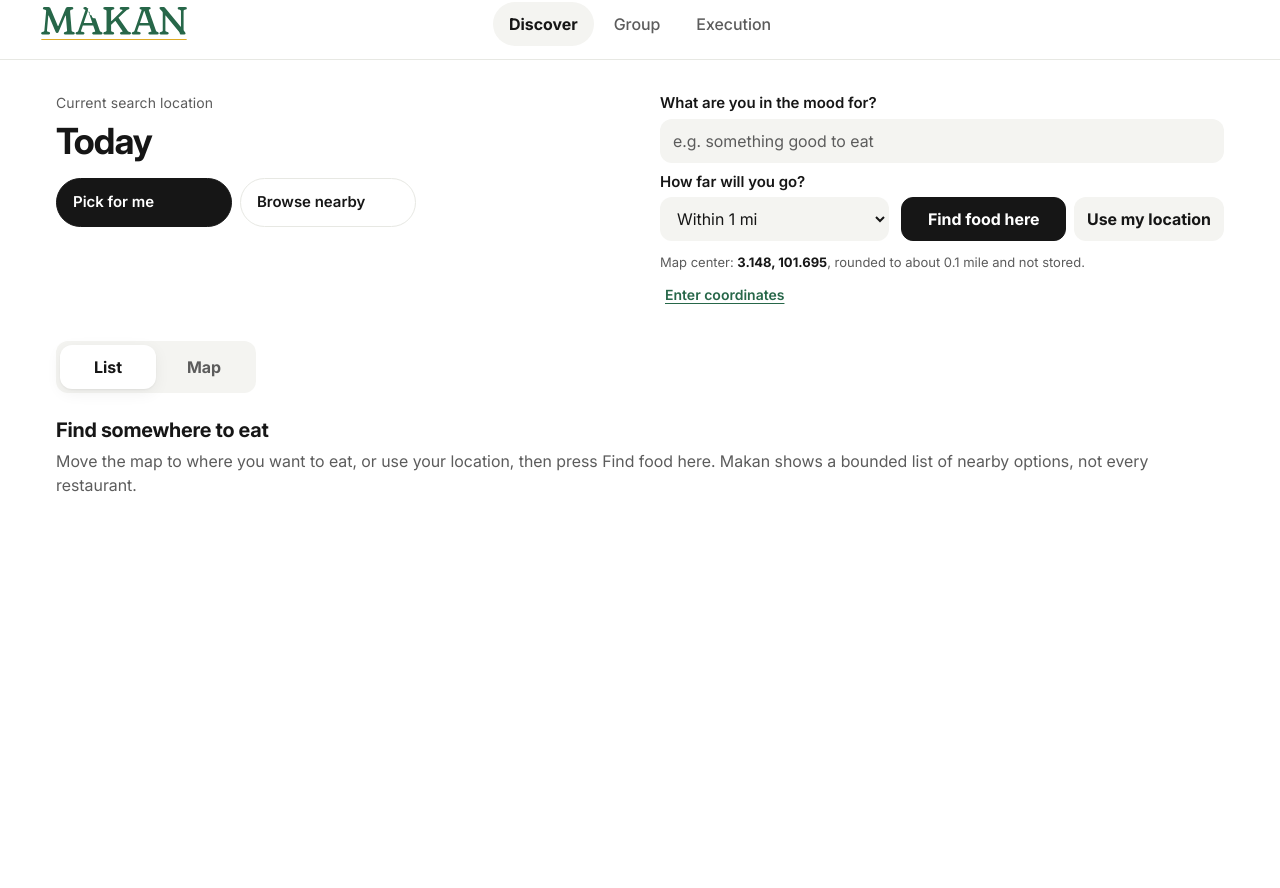
Scenario: Discover › drops the selection when a filter hides the selected place
Step 1. Type "thai please" into the field labelled "What are you in the mood for?" → (942, 140), box [660,118,1224,162]
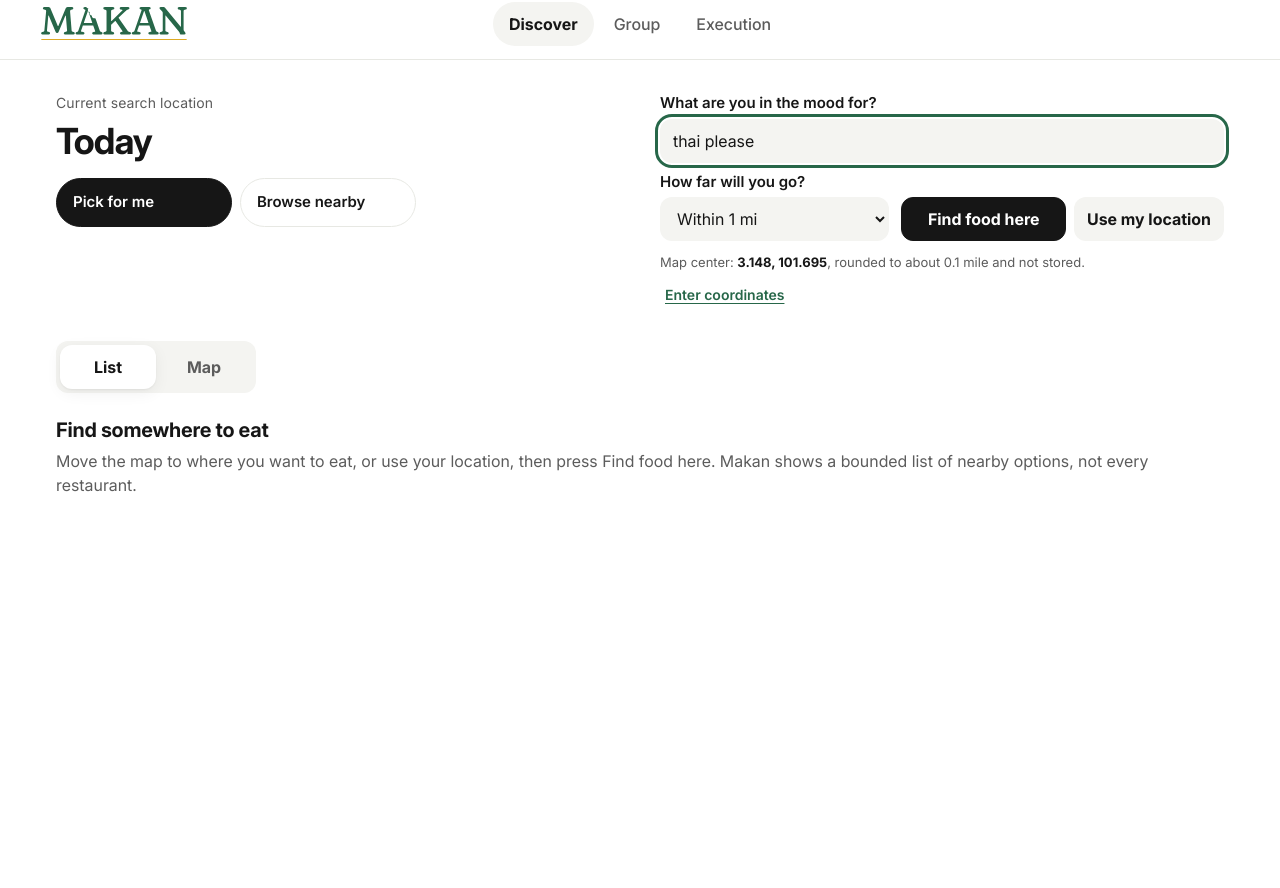
Step 2. Click the button "Find food here" → (984, 219), box [901,197,1066,241]
(page scrolled)
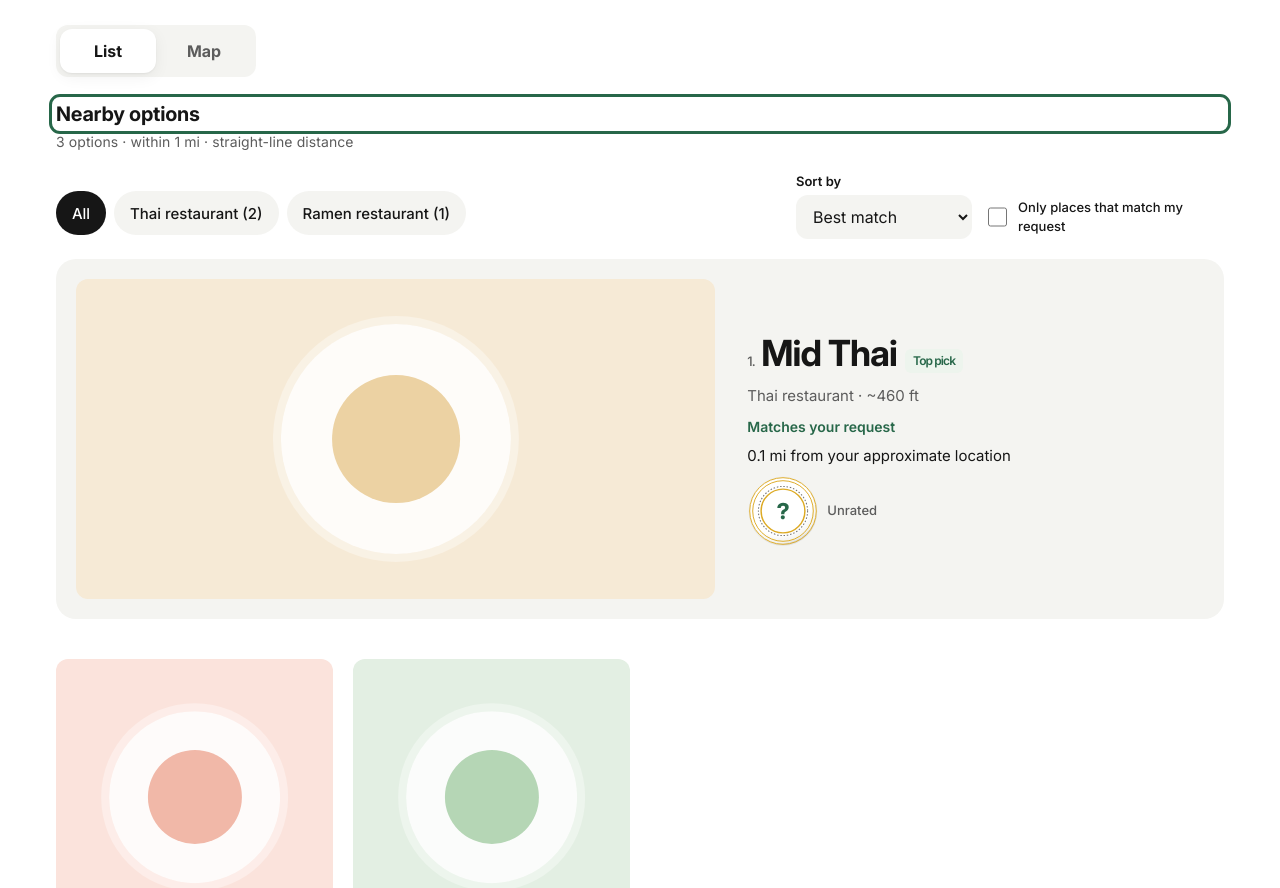
Expected: the heading "Nearby options" is shown, [56,102,200,126]
Step 3. Click the button "1. Mid Thai" → (103, 273), box [56,259,1224,619]
(page scrolled)
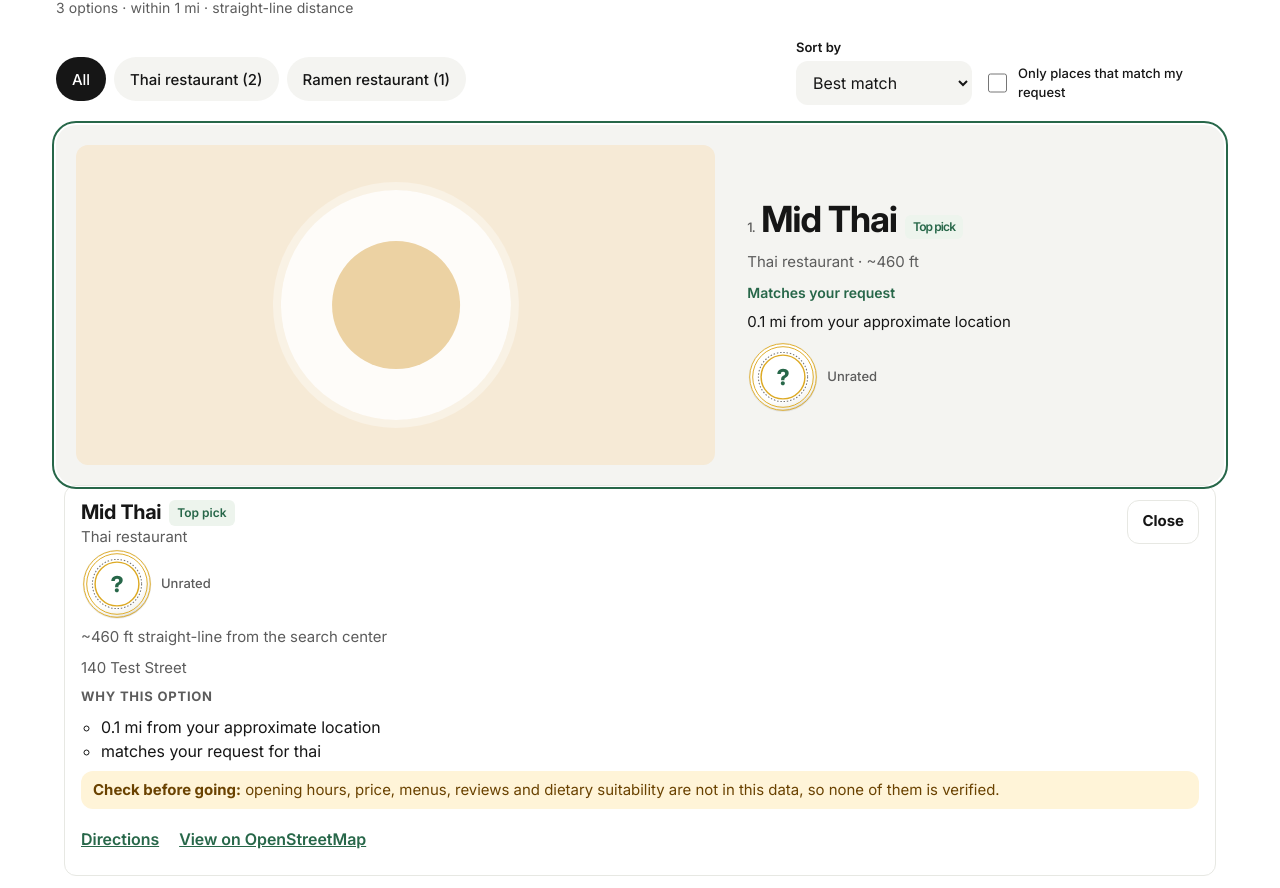
Step 4. Click the button "Ramen restaurant (1)" → (376, 79), box [286,57,466,101]
(page scrolled)
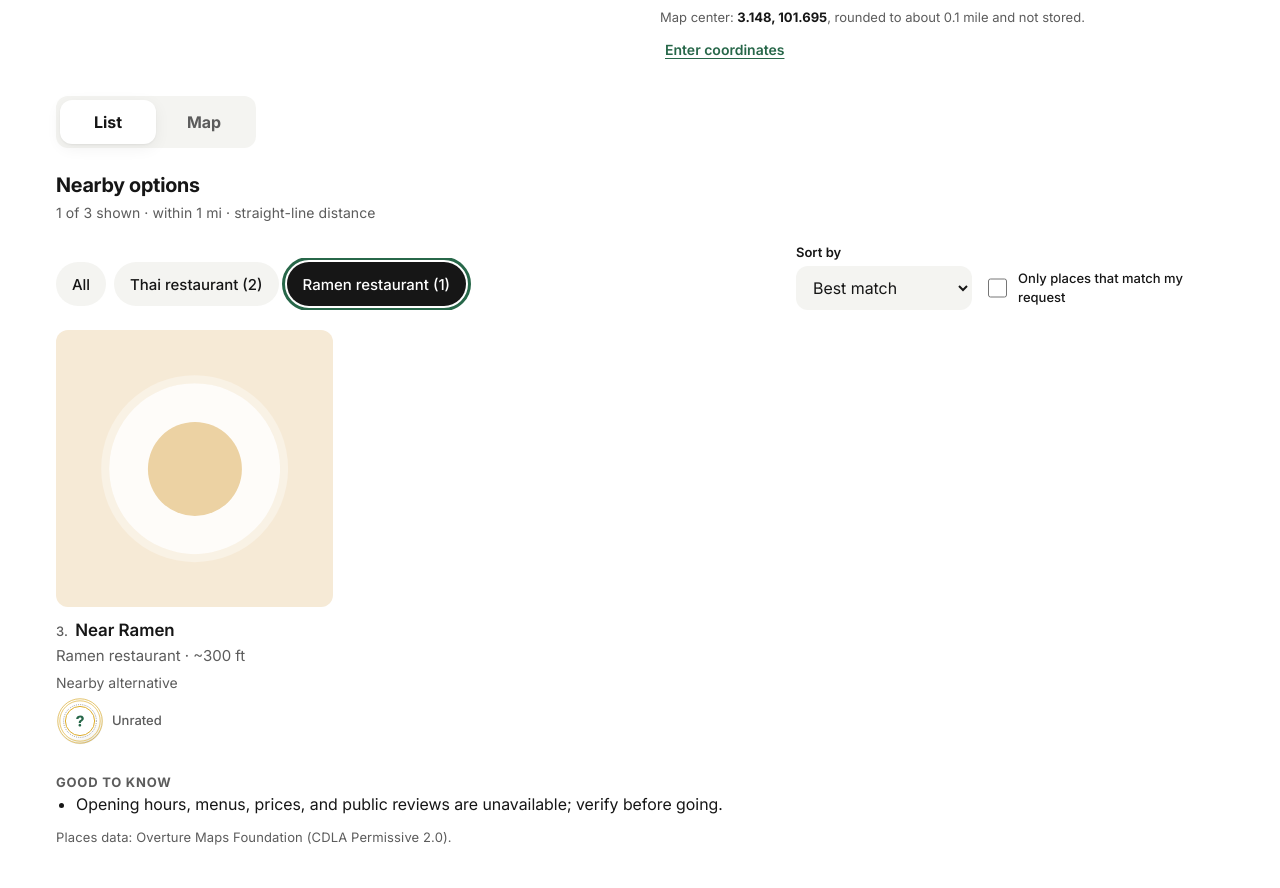
Expected: the button "Mid Thai" is gone
